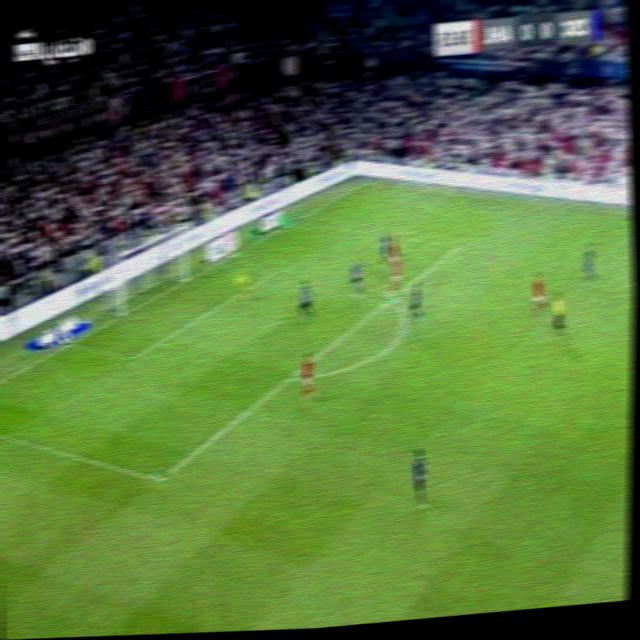bigarea_bottom_inner: (149, 467, 172, 490)
bigarea_top_inner: (450, 235, 470, 255)
bigarea_top_outter: (288, 211, 305, 229)
bottom_arc_area_intersection: (281, 367, 300, 387)
corner: (354, 175, 374, 189)
smallarea_bottom_inner: (123, 344, 144, 367)
smallarea_bottom_outter: (60, 336, 79, 350)
smallarea_top_inner: (271, 259, 288, 274)
smallarea_top_outter: (218, 249, 237, 267)
top_arc_area_intersection: (382, 288, 402, 307)
